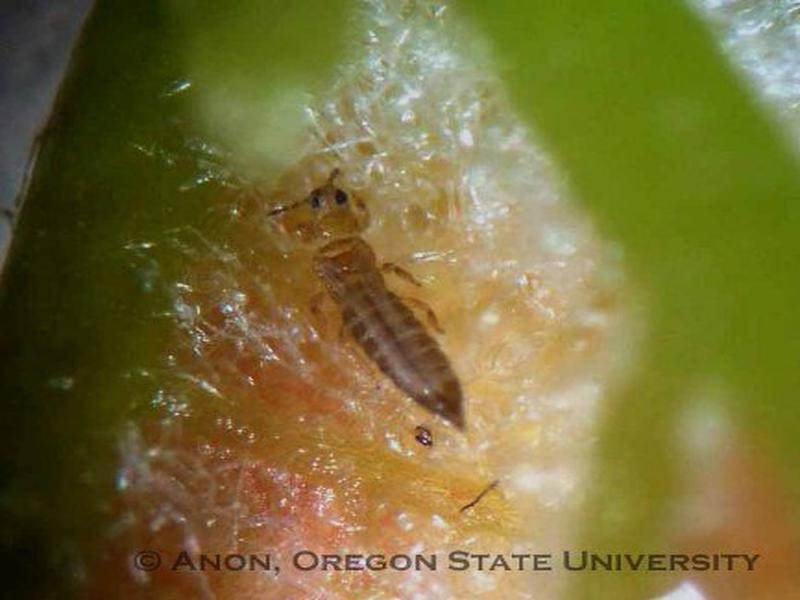Thrips: (248, 168, 486, 430)
